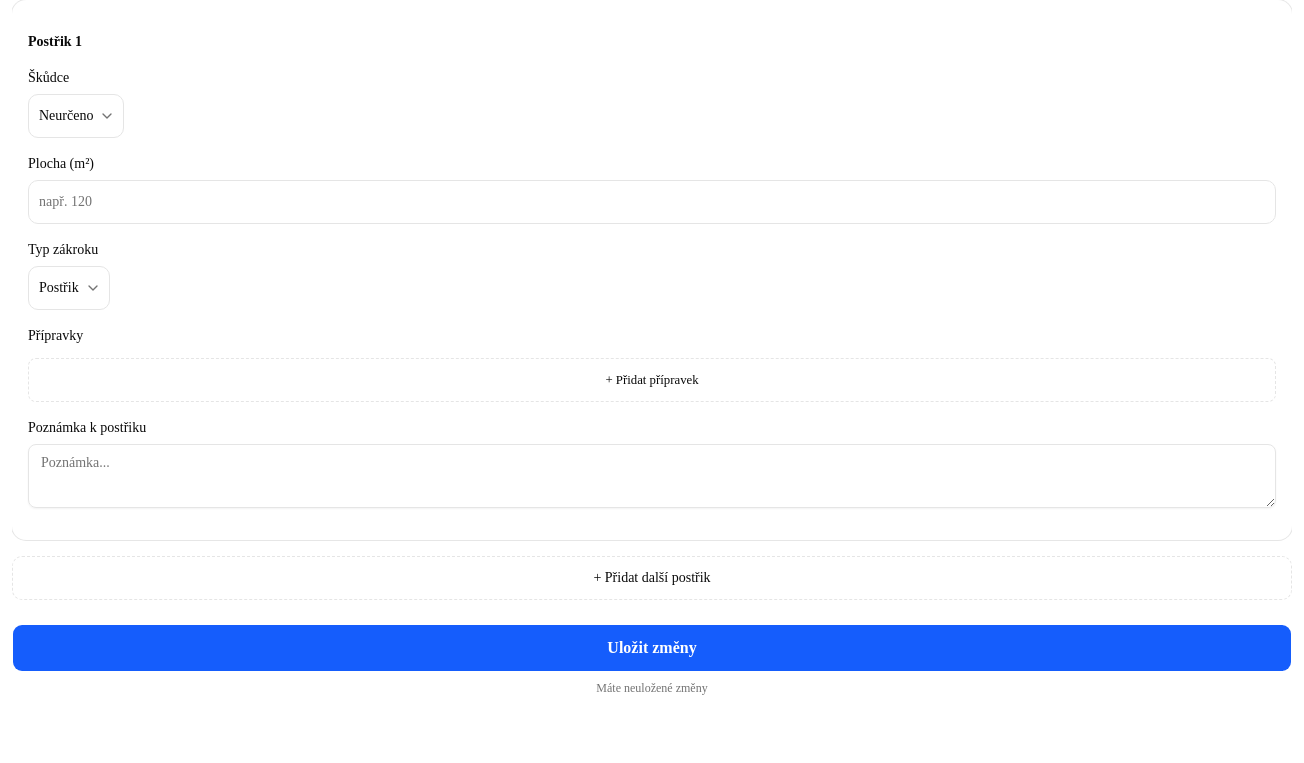
PostrikFormView › přidání přípravku zobrazí nový řádek
What coordinates should you click on to do the following:
click the button "+ Přidat přípravek"
I would click on:
 (652, 380)
Its box is [28, 358, 1276, 402].
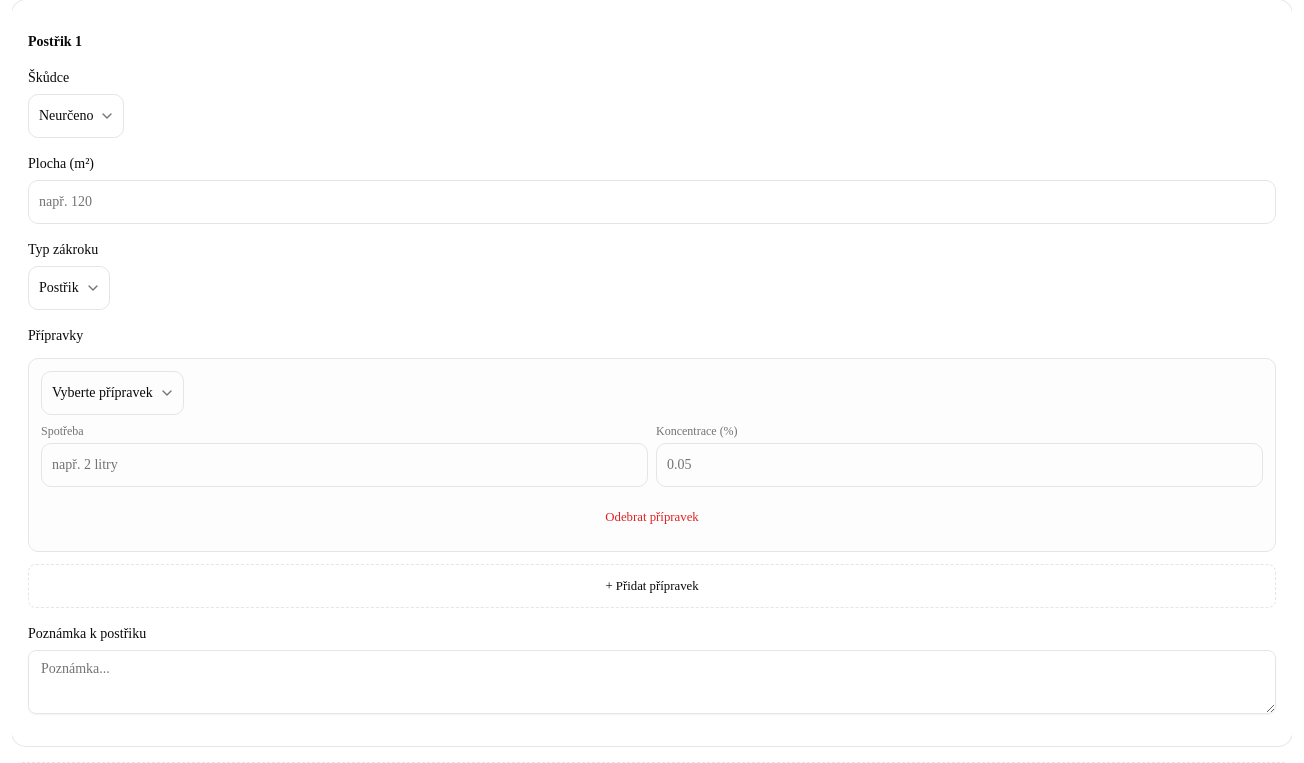
Expected: the button "Odebrat přípravek" is shown, [41, 495, 1263, 539]
